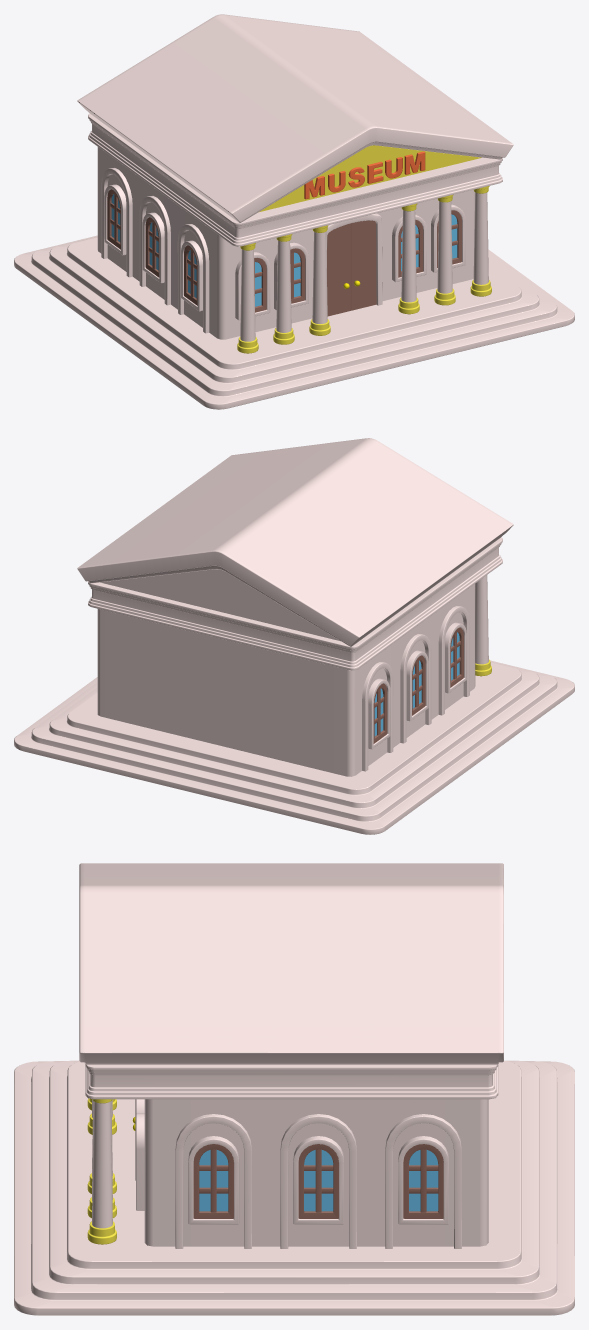
The model's file is Public_9_Museum_1.glb.
The picture shows the model from 3 angles, top to bottom: view 1: azimuth 30°, elevation 25°; view 2: azimuth 150°, elevation 25°; view 3: azimuth 270°, elevation 25°; orthographic projection. The views are drawn at different scales.
Parts seen in each view (by area): view 1: Public_9_Museum_1; view 2: Public_9_Museum_1; view 3: Public_9_Museum_1.
Boxes of the visible parts, box(x1,y1,x2,y2) form: Public_9_Museum_1: box(14, 14, 574, 409); Public_9_Museum_1: box(14, 438, 574, 834); Public_9_Museum_1: box(14, 863, 574, 1315).
Size of the model in its own units: 16.36 by 9.42 by 15.71.
Materials: 1 (1 with a texture image).
